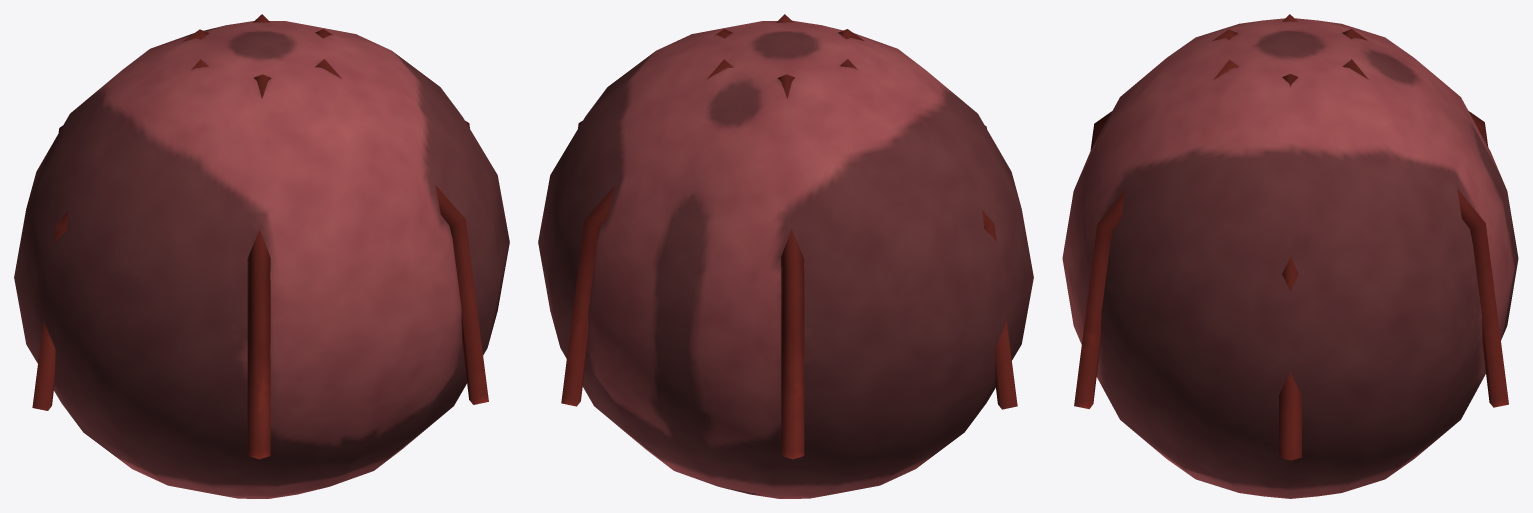
The model's file is breathing_sac.obj.
3 views of the same model, side by side, from view 1: azimuth 30°, elevation 25°; view 2: azimuth 150°, elevation 25°; view 3: azimuth 270°, elevation 25° (orthographic).
Parts seen in each view (by area): view 1: part0, part1; view 2: part0, part1; view 3: part0, part1.
Boxes of the visible parts, bbox=[...] form: part0: bbox=[14, 21, 509, 498]; part1: bbox=[32, 14, 488, 459]; part0: bbox=[538, 20, 1033, 498]; part1: bbox=[561, 14, 1017, 459]; part0: bbox=[1062, 18, 1518, 498]; part1: bbox=[1074, 14, 1508, 460].
Bounding box in the file's own units: 0.8357 × 0.76 × 0.72.
